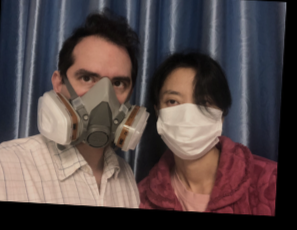with_mask: (60, 66, 132, 151), (156, 88, 223, 160)
